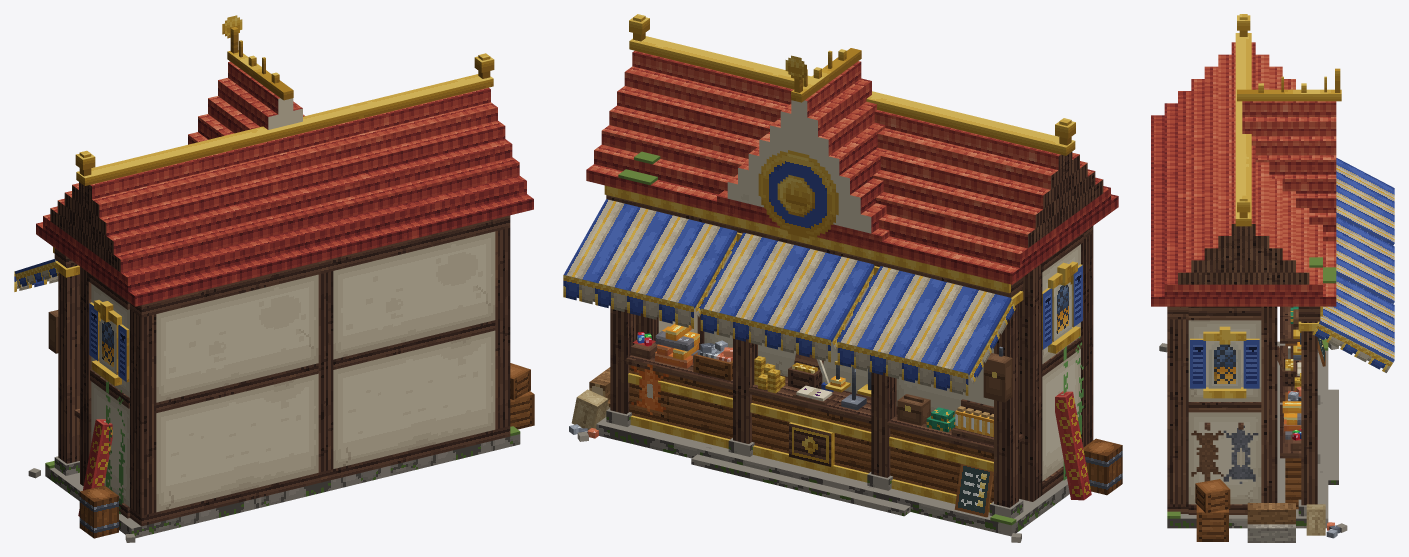
The model's file is market_stall_merchant.glb.
3 renders of one model, left to right at view 1: azimuth 30°, elevation 25°; view 2: azimuth 150°, elevation 25°; view 3: azimuth 270°, elevation 25°, orthographic. The views are drawn at different scales.
Parts seen in each view (by area): view 1: roof_main, back_panel_right_low, back_panel_left_low, back_panel_left_high, back_panel_right_high, roof_main_ridge, back_post_right, back_beam, roof_gable, back_sill, front_post_right_outer, back_post_centre (+18 smaller); view 2: roof_main, roof_gable, awning_right, awning_centre, awning_left, roof_main_ridge, side_post_right, front_beam_band, front_post_right_outer, counter_buy_body, coin_sign_board, counter_coin_body (+40 smaller); view 3: roof_main, roof_gable, side_panel_left_low, back_post_left, awning_left, awning_centre, awning_right, side_post_left, front_post_left_outer, roof_main_ridge, side_panel_left_high, plinth_3 (+25 smaller).
Part boxes in pixels (x1,y1,x2,y2): roof_main: [36, 87, 533, 306]; back_panel_right_low: [156, 373, 318, 512]; back_panel_left_low: [333, 330, 495, 468]; back_panel_left_high: [333, 231, 495, 359]; back_panel_right_high: [156, 274, 318, 402]; roof_main_ridge: [76, 74, 493, 185]; back_post_right: [130, 309, 156, 515]; back_beam: [130, 215, 510, 317]; roof_gable: [188, 40, 304, 144]; back_sill: [130, 426, 510, 526]; front_post_right_outer: [58, 264, 79, 463]; back_post_centre: [318, 271, 333, 472]; roof_main: [586, 51, 1118, 284]; roof_gable: [717, 49, 889, 252]; awning_right: [838, 266, 1011, 375]; awning_centre: [701, 232, 874, 341]; awning_left: [563, 199, 737, 308]; roof_main_ridge: [629, 36, 1075, 155]; side_post_right: [1019, 263, 1042, 501]; front_beam_band: [604, 185, 1010, 293]; front_post_right_outer: [994, 292, 1018, 507]; counter_buy_body: [629, 365, 732, 439]; coin_sign_board: [760, 153, 834, 236]; counter_coin_body: [752, 395, 871, 472]; roof_main: [1151, 42, 1336, 306]; roof_gable: [1242, 76, 1336, 241]; side_panel_left_low: [1188, 412, 1261, 504]; back_post_left: [1167, 319, 1188, 504]; awning_left: [1319, 274, 1394, 362]; awning_centre: [1336, 216, 1394, 303]; awning_right: [1336, 158, 1394, 245]; side_post_left: [1261, 306, 1277, 502]; front_post_left_outer: [1301, 321, 1317, 505]; roof_main_ridge: [1235, 33, 1251, 226]; side_panel_left_high: [1188, 320, 1261, 401]; plinth_3: [1167, 459, 1328, 528].
Bounding box in the file's own units: 5.62 × 4.89 × 2.84.
1 material, 1 textured.
